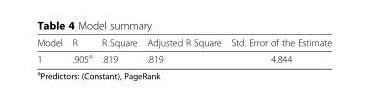table: (36, 36, 331, 64)
table column: (225, 36, 331, 64), (141, 36, 225, 64), (96, 36, 141, 64), (36, 36, 66, 64), (66, 36, 96, 64)
table column header: (36, 36, 331, 49)
table row: (36, 49, 331, 64), (36, 36, 331, 49)
